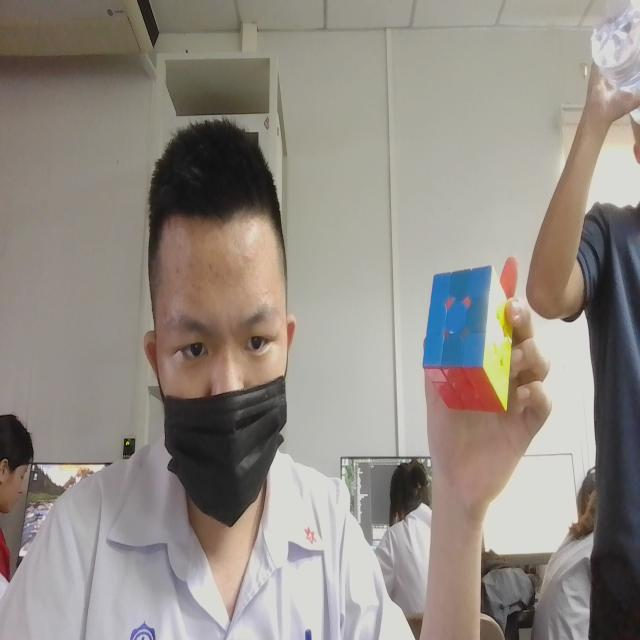rubik: (405, 237, 521, 446)
